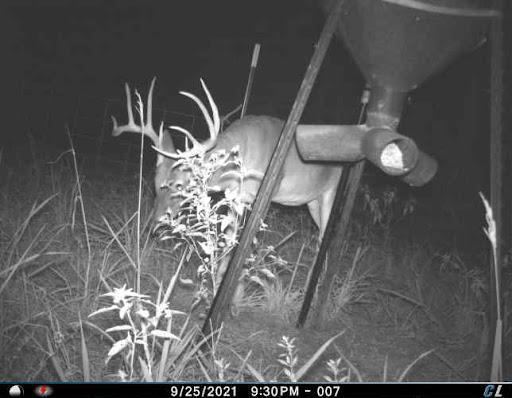Deer: (102, 69, 369, 318)
